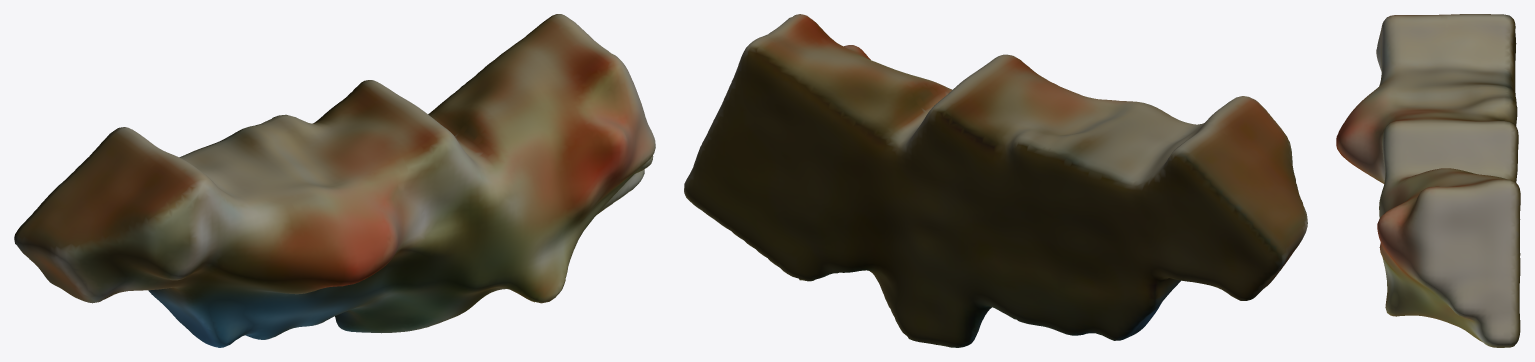
Rendered from blocks.glb.
The picture shows the model from 3 angles, left to right: view 1: azimuth 30°, elevation 25°; view 2: azimuth 150°, elevation 25°; view 3: azimuth 270°, elevation 25°; orthographic projection. The views are drawn at different scales.
Size of the model in its own units: 0.9978 by 0.4095 by 0.326.
